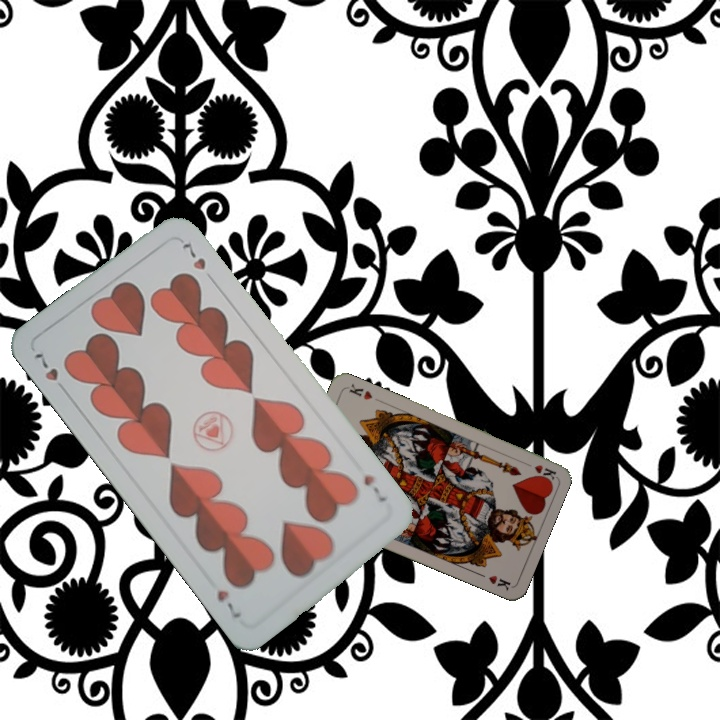H7: (29, 346, 71, 397), (359, 471, 389, 505)
HK: (518, 457, 558, 482)
